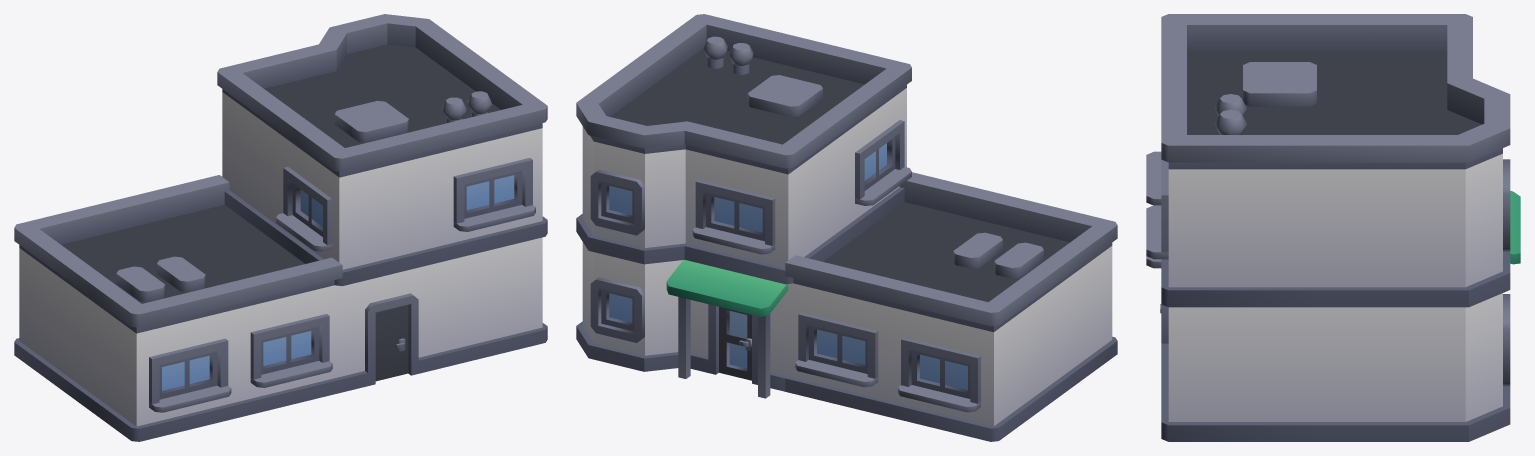
The model's file is building-e.glb.
The picture shows the model from 3 angles, left to right: view 1: azimuth 30°, elevation 25°; view 2: azimuth 150°, elevation 25°; view 3: azimuth 270°, elevation 25°; orthographic projection. The views are drawn at different scales.
Visible parts, largest first — view 1: building-e; view 2: building-e; view 3: building-e.
Boxes of the visible parts, box(x1,y1,x2,y2) form: building-e: box(14, 14, 547, 441); building-e: box(576, 14, 1117, 441); building-e: box(1146, 14, 1520, 441).
Bounding box in the file's own units: 1.64 × 0.8933 × 1.01.
Materials: 1 (1 with a texture image).
